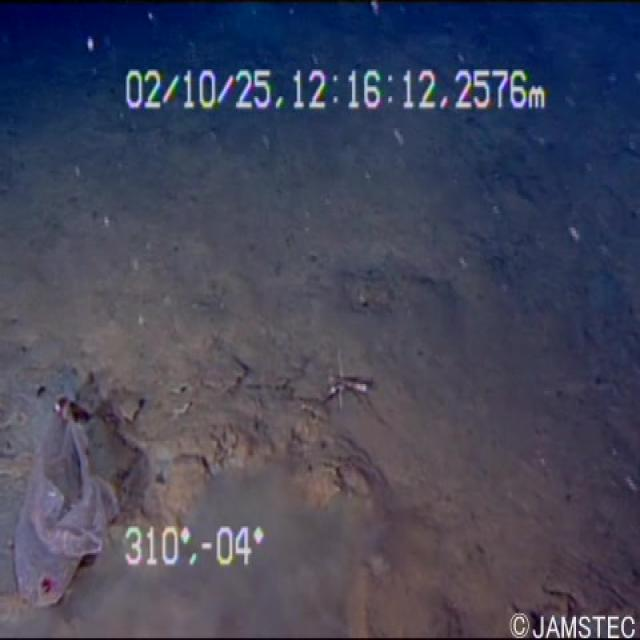plastic: (0, 389, 139, 608)
